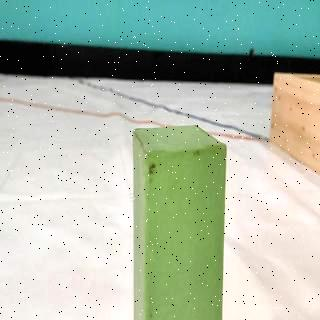greenbox: (128, 123, 230, 320)
